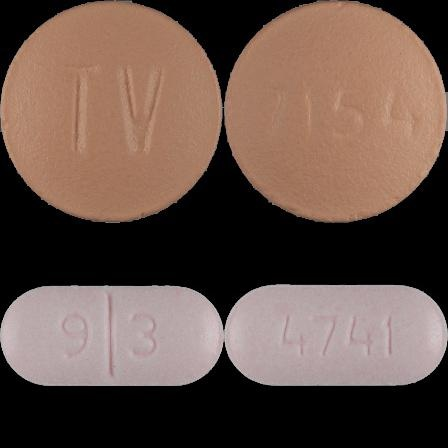66116-316: (0, 0, 224, 224)
